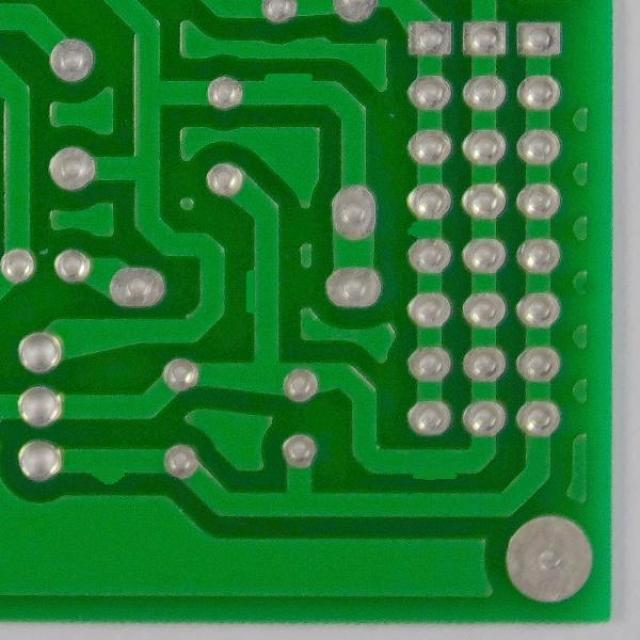spur: (243, 260, 270, 326), (257, 67, 321, 94), (398, 209, 441, 249), (409, 460, 464, 483), (88, 463, 134, 488)
